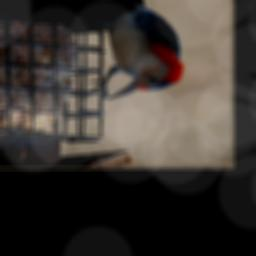Woodpecker: (87, 0, 183, 99)
